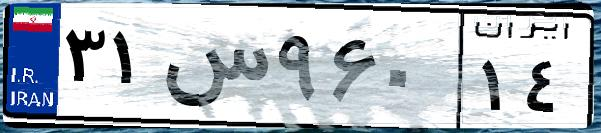0: (385, 28, 445, 110)
1: (475, 38, 525, 113), (110, 28, 158, 98)
3: (57, 26, 110, 100)
4: (525, 38, 570, 115)
6: (330, 28, 385, 110)
9: (270, 28, 330, 110)
س: (158, 20, 270, 120)
